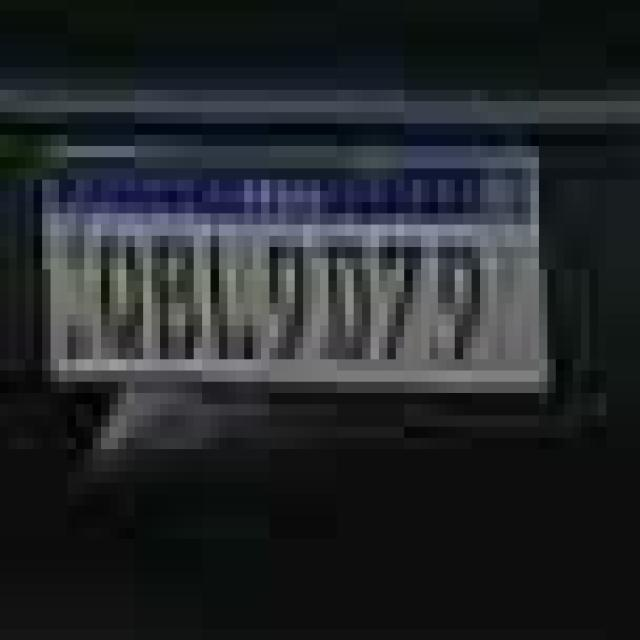7: (378, 239, 422, 360)
9: (433, 230, 485, 362), (262, 234, 310, 358)
B: (151, 223, 204, 360)
D: (323, 244, 370, 358)
L: (204, 228, 253, 363)
Q: (102, 230, 148, 360)
